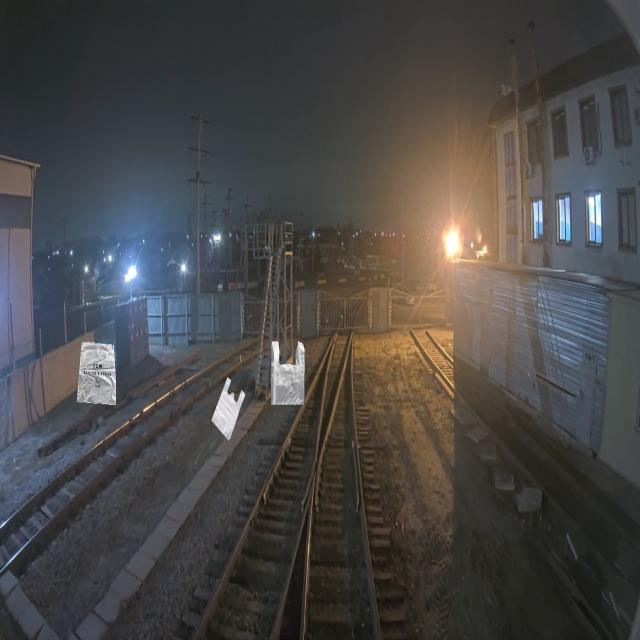plastic bag: (77, 340, 116, 404), (211, 377, 246, 441), (271, 340, 305, 404)
